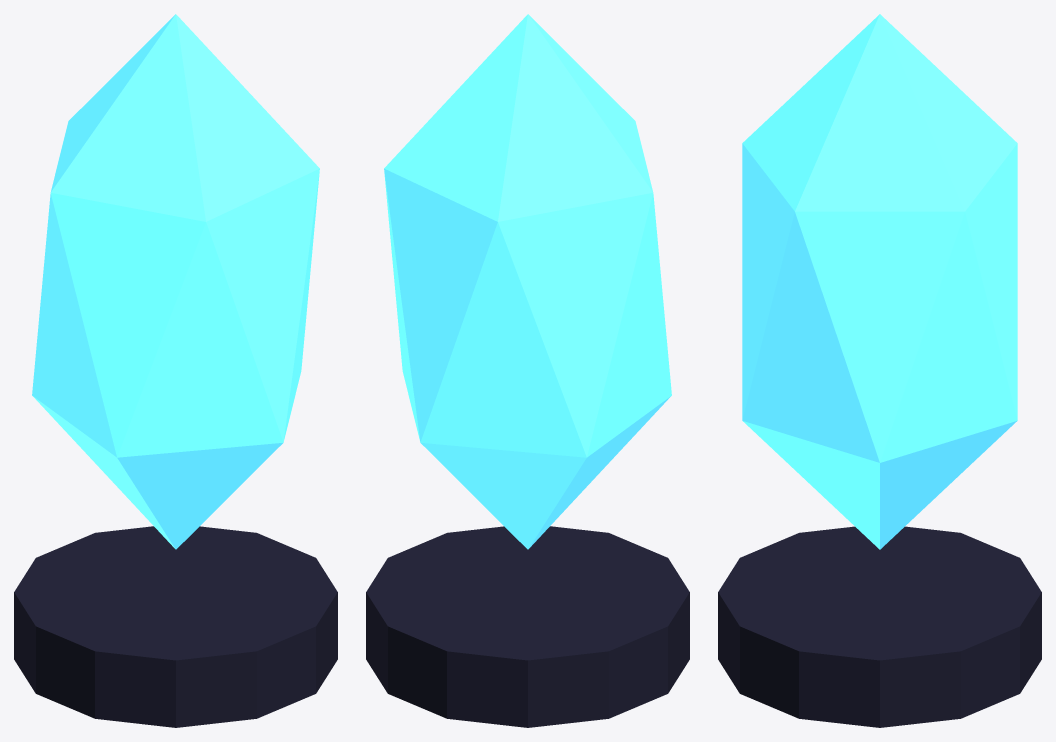
3 renders of one model, left to right at view 1: azimuth 30°, elevation 25°; view 2: azimuth 150°, elevation 25°; view 3: azimuth 270°, elevation 25°, orthographic.
Parts seen in each view (by area): view 1: Crystal, Cylinder; view 2: Crystal, Cylinder; view 3: Crystal, Cylinder.
Boxes of the visible parts, bbox=[...] form: Crystal: bbox=[32, 14, 319, 549]; Cylinder: bbox=[14, 526, 337, 727]; Crystal: bbox=[384, 14, 671, 549]; Cylinder: bbox=[366, 526, 689, 727]; Crystal: bbox=[742, 14, 1017, 549]; Cylinder: bbox=[718, 526, 1041, 727].
Bounding box in the file's own units: 165 × 364 × 165.
